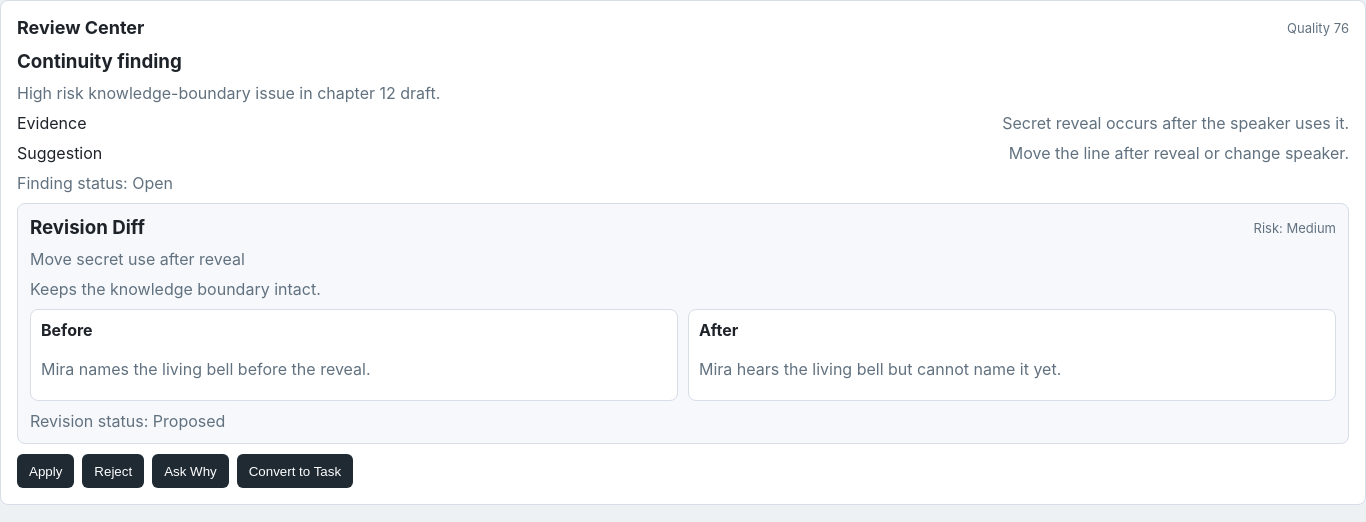
Test: review center revision diff flow › keeps finding actions and revision status in sync
The image size is (1366, 522).
Check: the text "Revision status: Proposed" is shown, box left=30, top=411, right=225, bottom=431
Click the button "Apply". click: (46, 471)
box: left=17, top=454, right=74, bottom=488
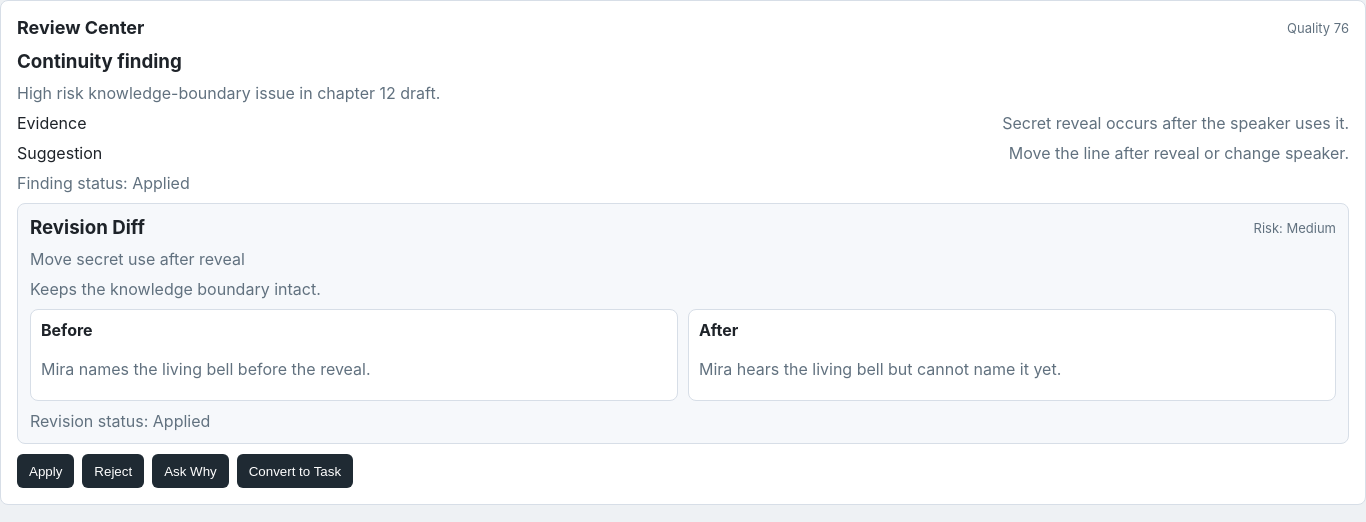
Check: the text "Finding status: Applied" is shown, box left=17, top=173, right=190, bottom=193
Check: the text "Revision status: Applied" is shown, box left=30, top=411, right=210, bottom=431
Click the button "Reject". click: (113, 471)
box: left=82, top=454, right=144, bottom=488
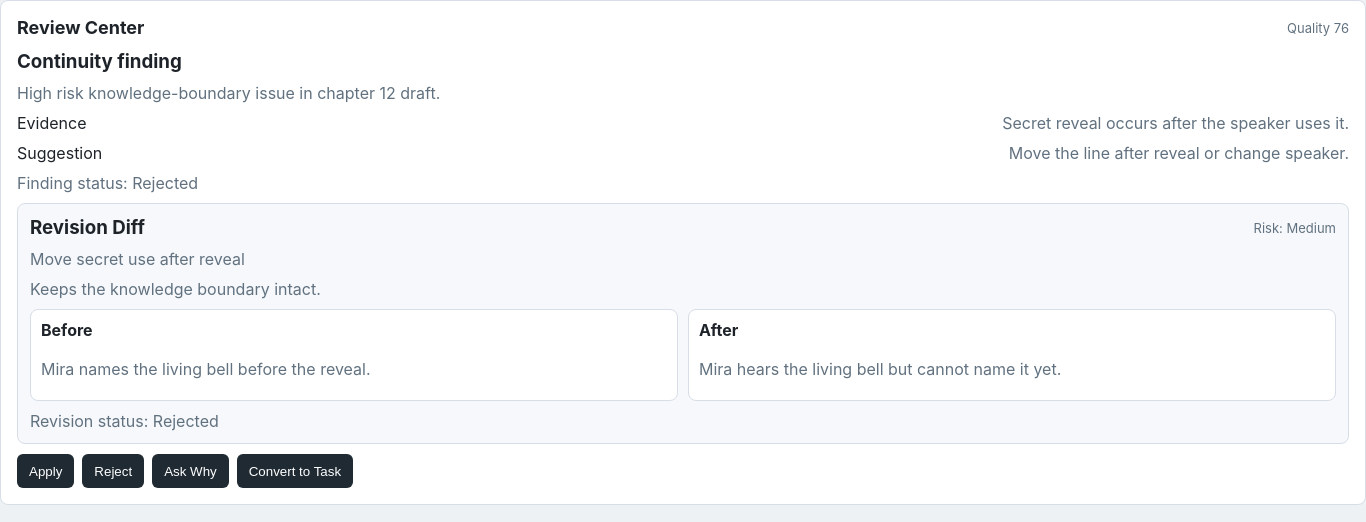
Check: the text "Finding status: Rejected" is shown, box left=17, top=173, right=198, bottom=193
Check: the text "Revision status: Rejected" is shown, box left=30, top=411, right=219, bottom=431
